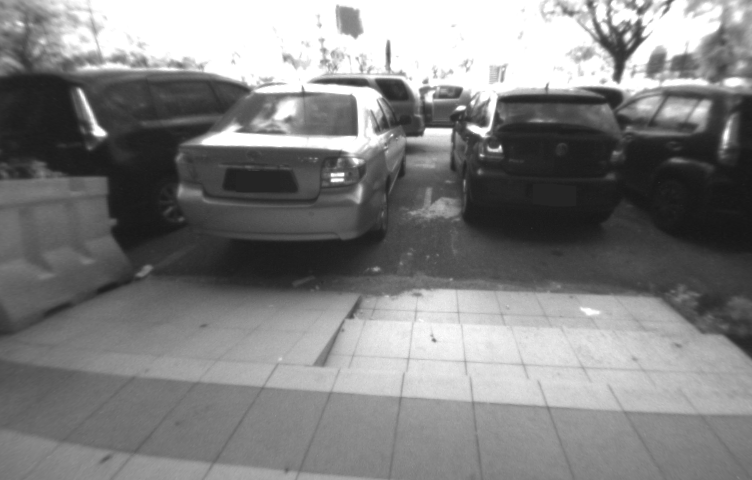down_steps: (319, 281, 750, 410)
mixed_gradient: (273, 275, 402, 379)
